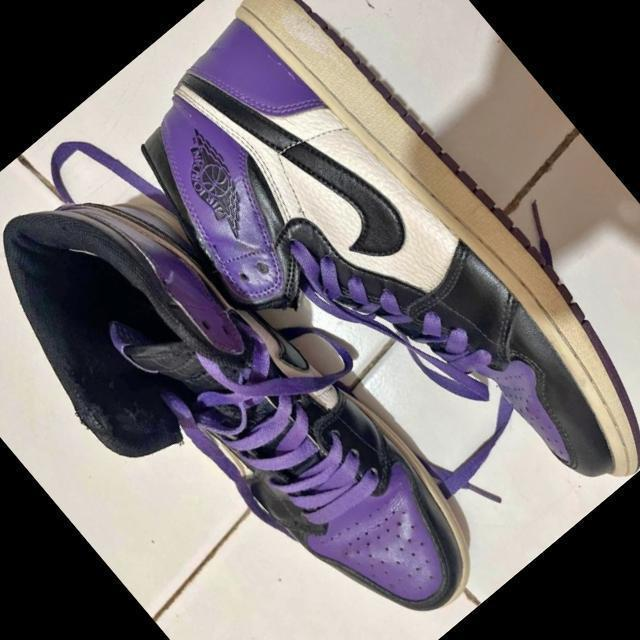nike original jordan 1: (94, 0, 640, 600), (0, 113, 502, 640)
